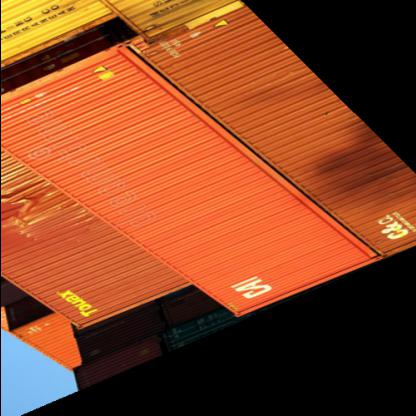Damage: (3, 186, 43, 235)
